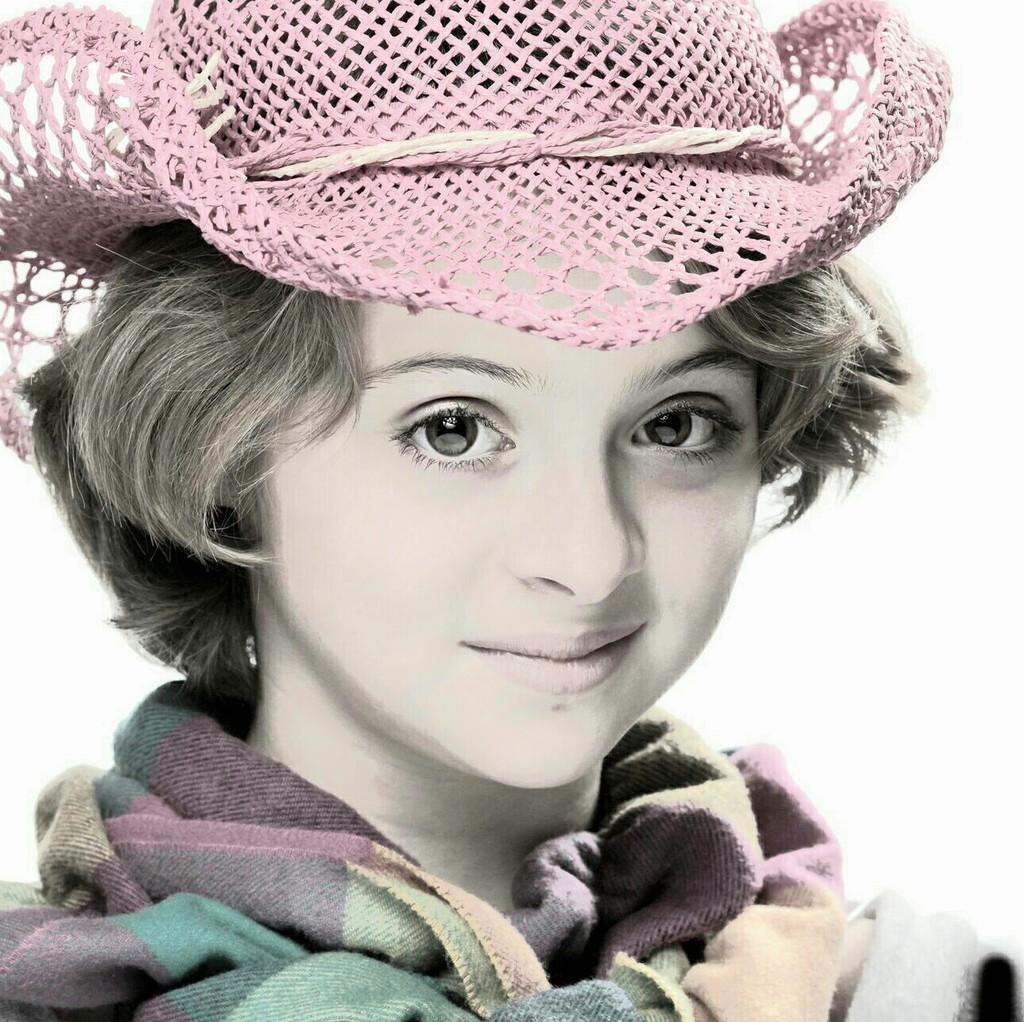Hat: (0, 0, 955, 461)
